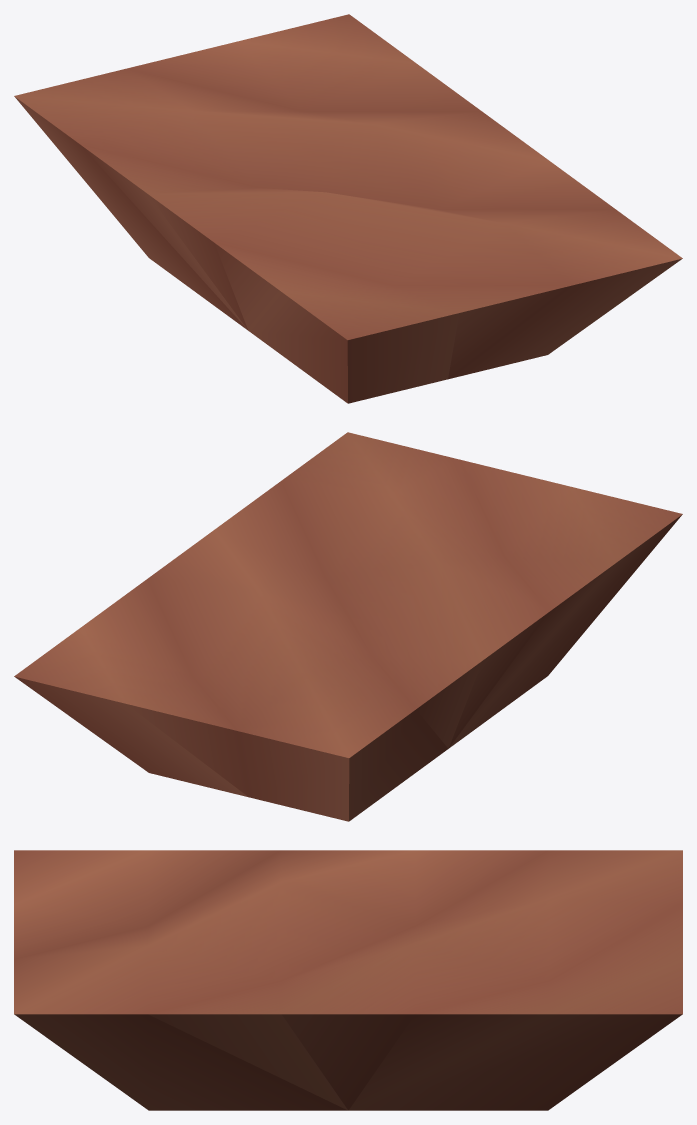
The model's file is icecream_container_icecream_chocolate.obj.
3 views of the same model, one above another, from view 1: azimuth 30°, elevation 25°; view 2: azimuth 150°, elevation 25°; view 3: azimuth 270°, elevation 25° (orthographic).
Parts seen in each view (by area): view 1: icecream_container_icecream_chocolate_Cube.393; view 2: icecream_container_icecream_chocolate_Cube.393; view 3: icecream_container_icecream_chocolate_Cube.393.
Boxes of the visible parts, x1,y1,x2,y2 form: icecream_container_icecream_chocolate_Cube.393: (14,14,682,403); icecream_container_icecream_chocolate_Cube.393: (14,432,682,821); icecream_container_icecream_chocolate_Cube.393: (14,850,682,1110).
Bounding box in the file's own units: 0.8144 × 0.3534 × 1.4.
1 material, 1 textured.
